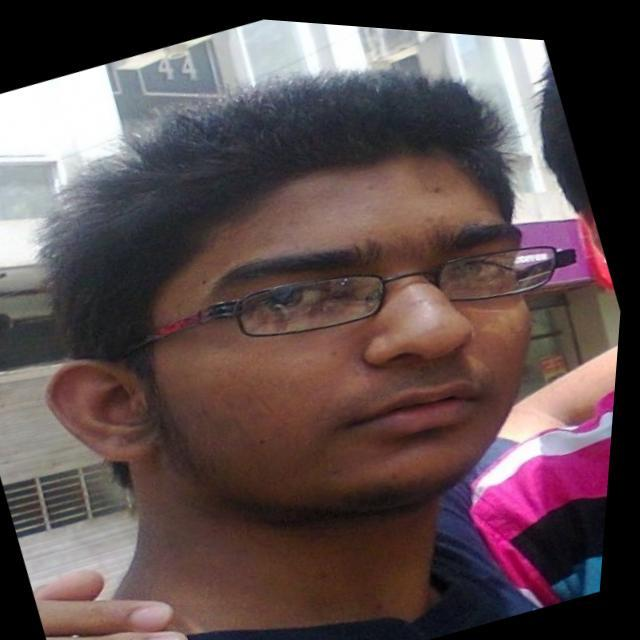Nonhelmet: (40, 67, 544, 506)
